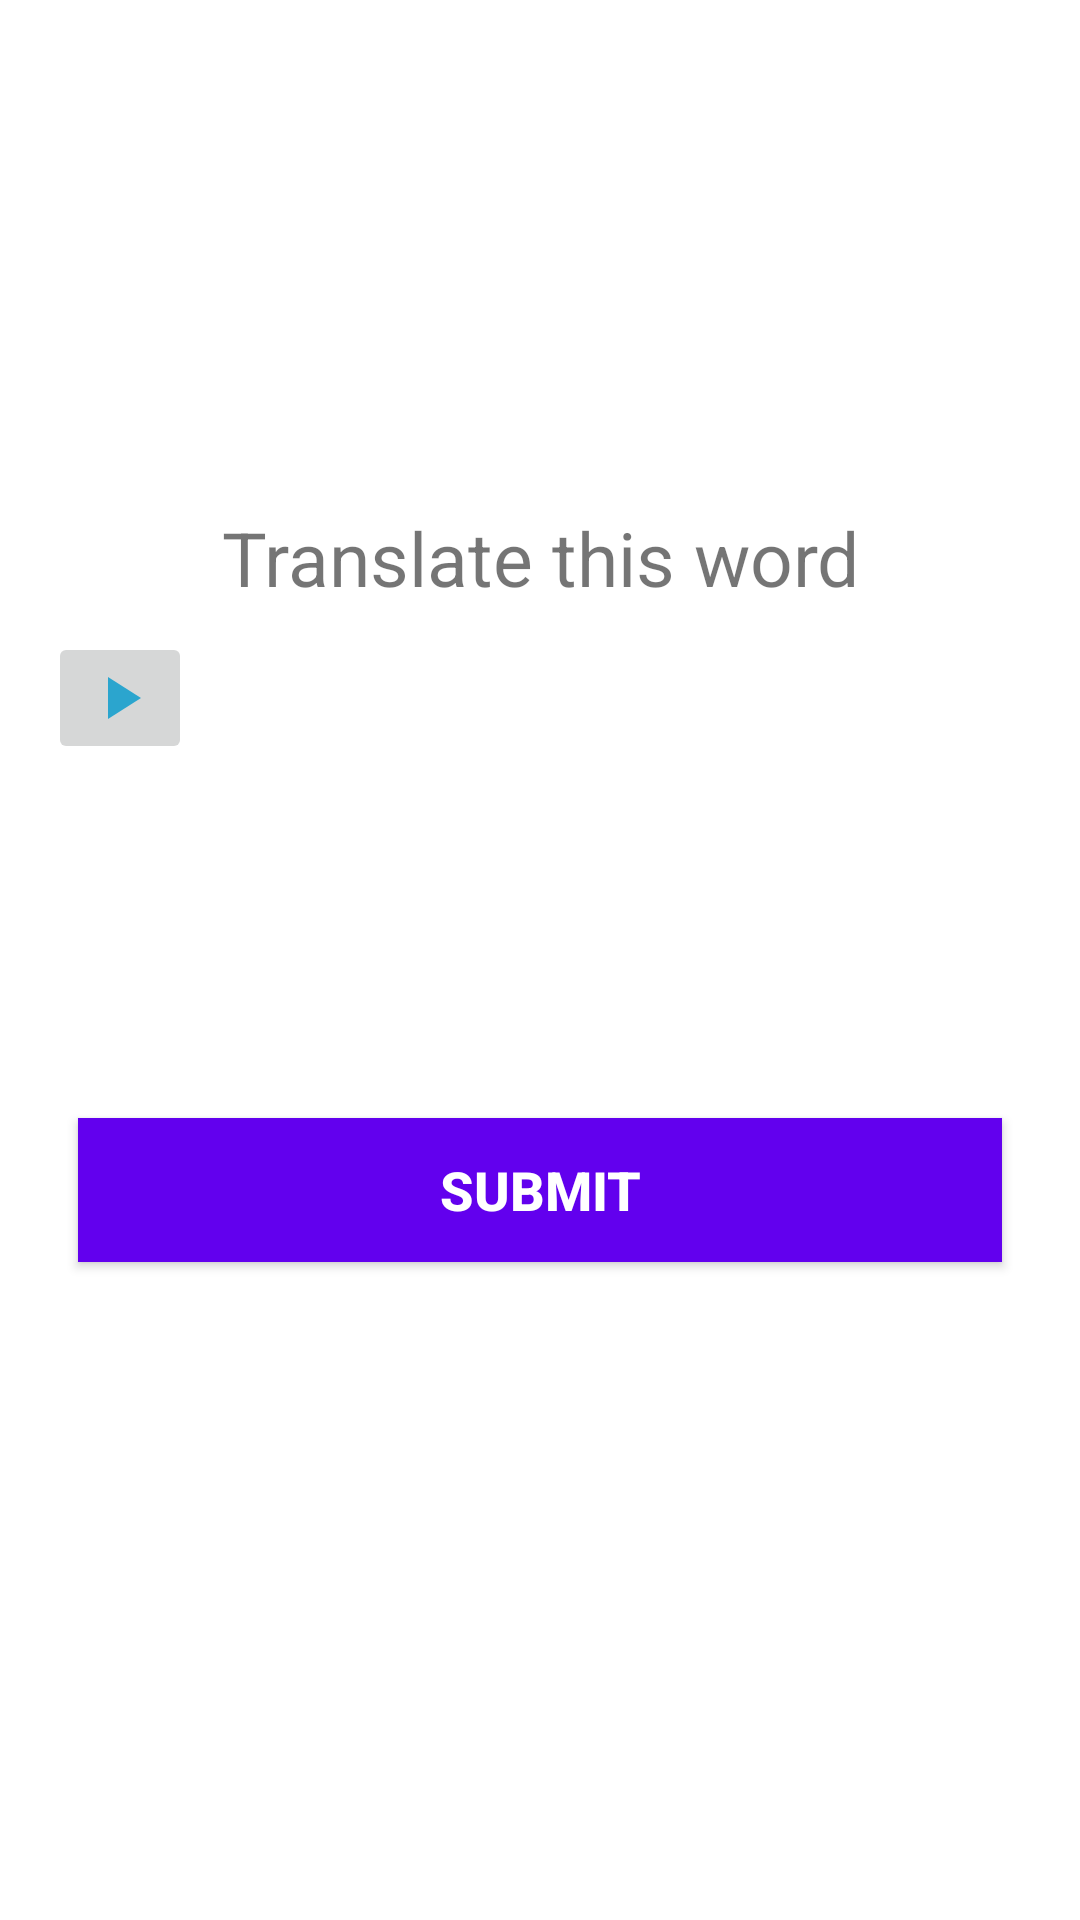

Named icons in this screenshot (1080px×1920px) and their centers, (x=x, y=y):
play: (x=120, y=698)
